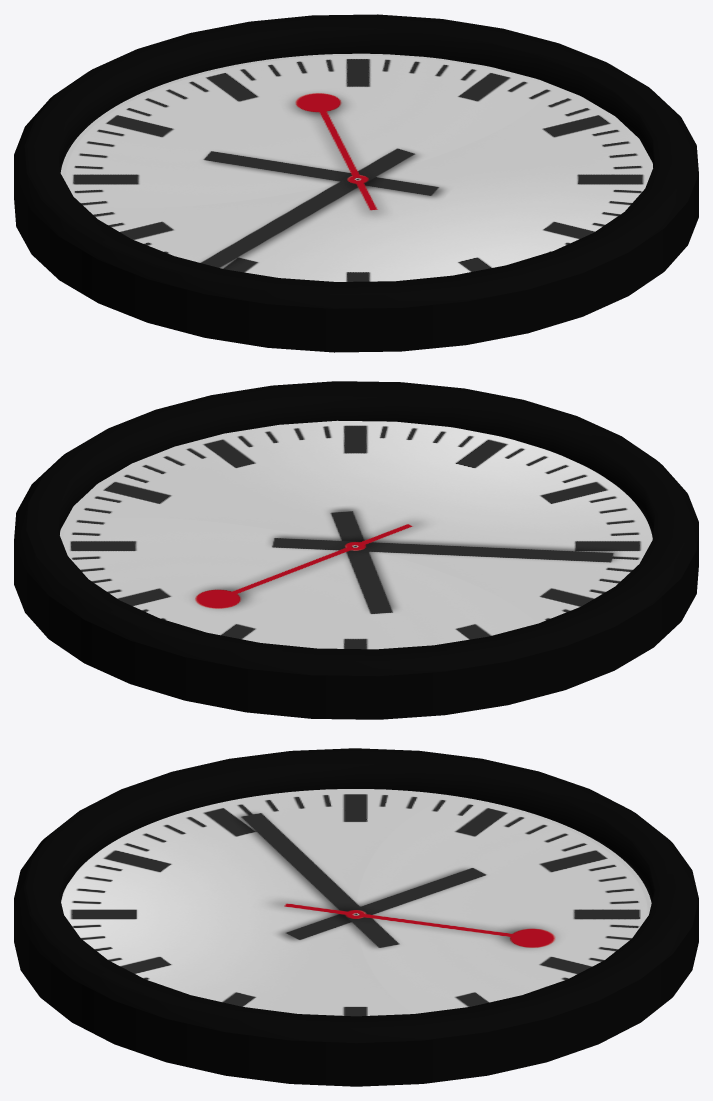
File: horlogeNoir1.fbx
3 views of the same model, one above another, from view 1: azimuth 30°, elevation 25°; view 2: azimuth 150°, elevation 25°; view 3: azimuth 270°, elevation 25° (orthographic).
Visible parts, largest first — view 1: Cylinder; view 2: Cylinder; view 3: Cylinder.
Part boxes in pixels (<box>): Cylinder: <box>14,14,698,352</box>; Cylinder: <box>14,381,698,719</box>; Cylinder: <box>14,748,698,1086</box>.
Bounding box in the file's own units: 1.02 × 0.09 × 1.02.
Materials: 2 (1 with a texture image).
